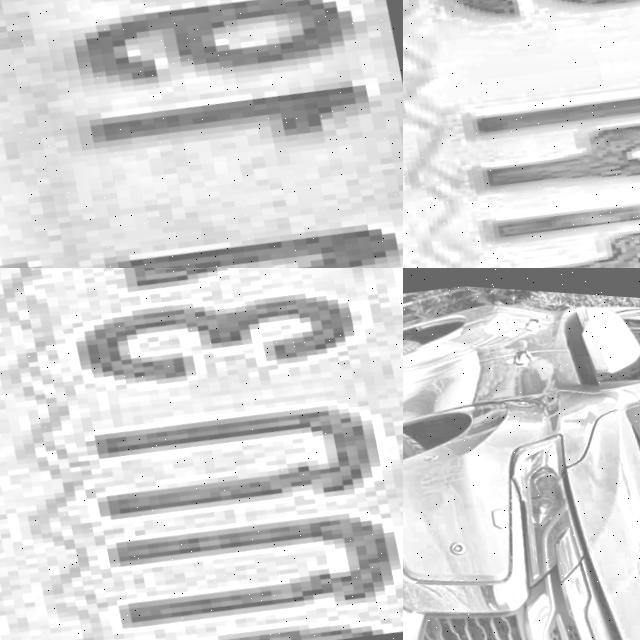license-plate: (0, 268, 403, 640), (0, 0, 403, 268), (403, 0, 640, 268)
